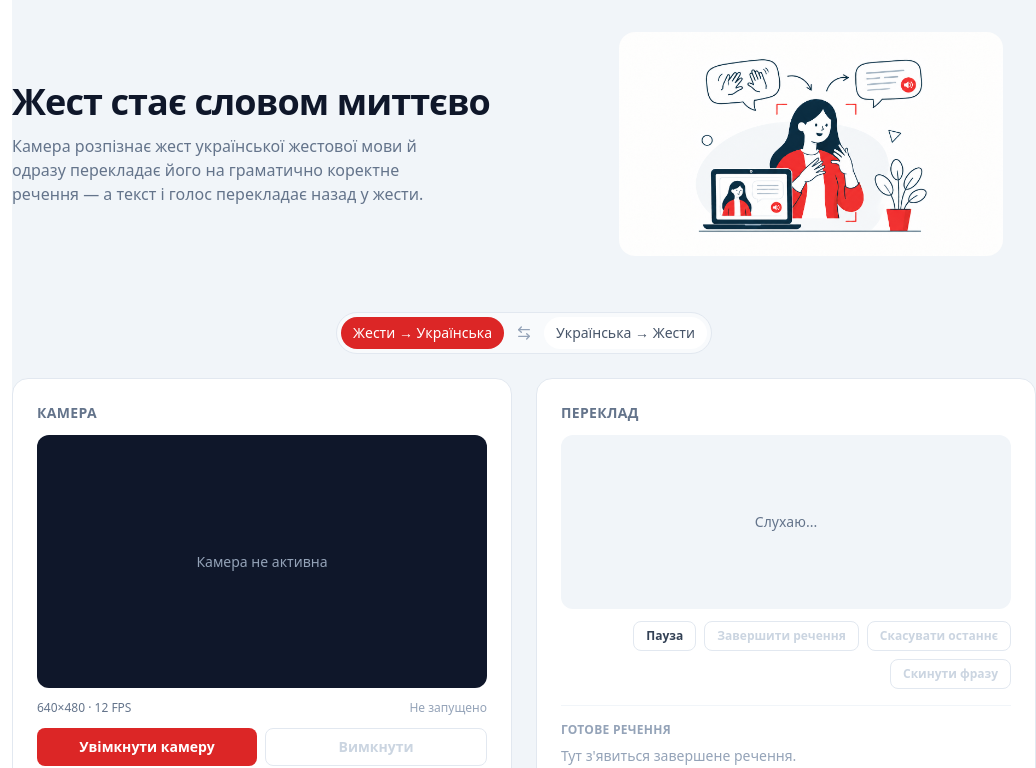
Test: TranslatorView › Pause stops the live line, and Resume/Start returns it to listening
Expected: the element with test id "live-sentence-status" shows "Слухаю", [755, 512, 817, 531]
Click the button "Пауза".
click(665, 636)  # box [633, 621, 696, 651]
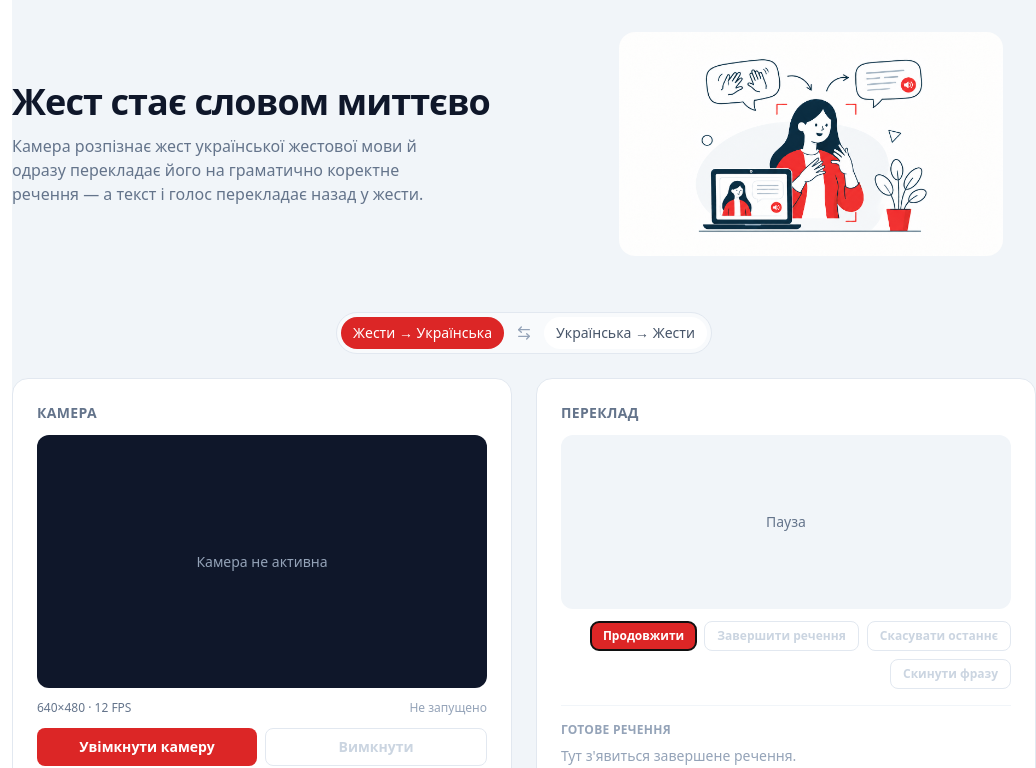
Expected: the element with test id "live-sentence-status" reads "Пауза", [766, 512, 806, 531]
Click the button "Продовжити".
click(644, 636)  # box [591, 622, 696, 650]
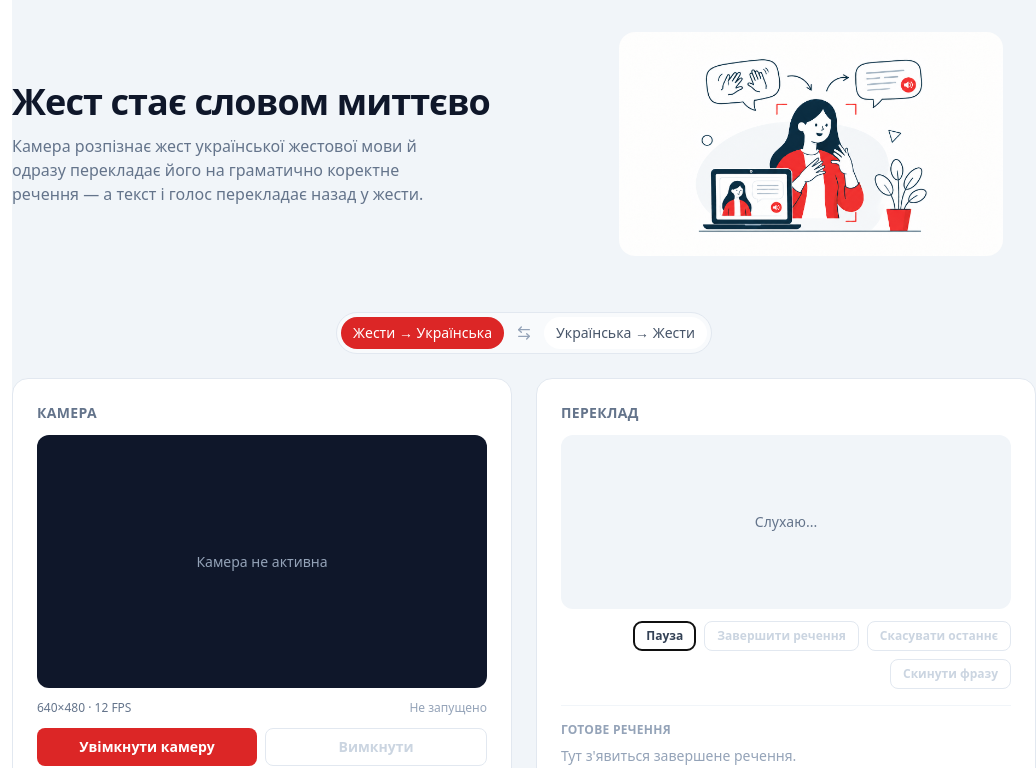
Expected: the element with test id "live-sentence-status" shows "Слухаю", [755, 512, 817, 531]
